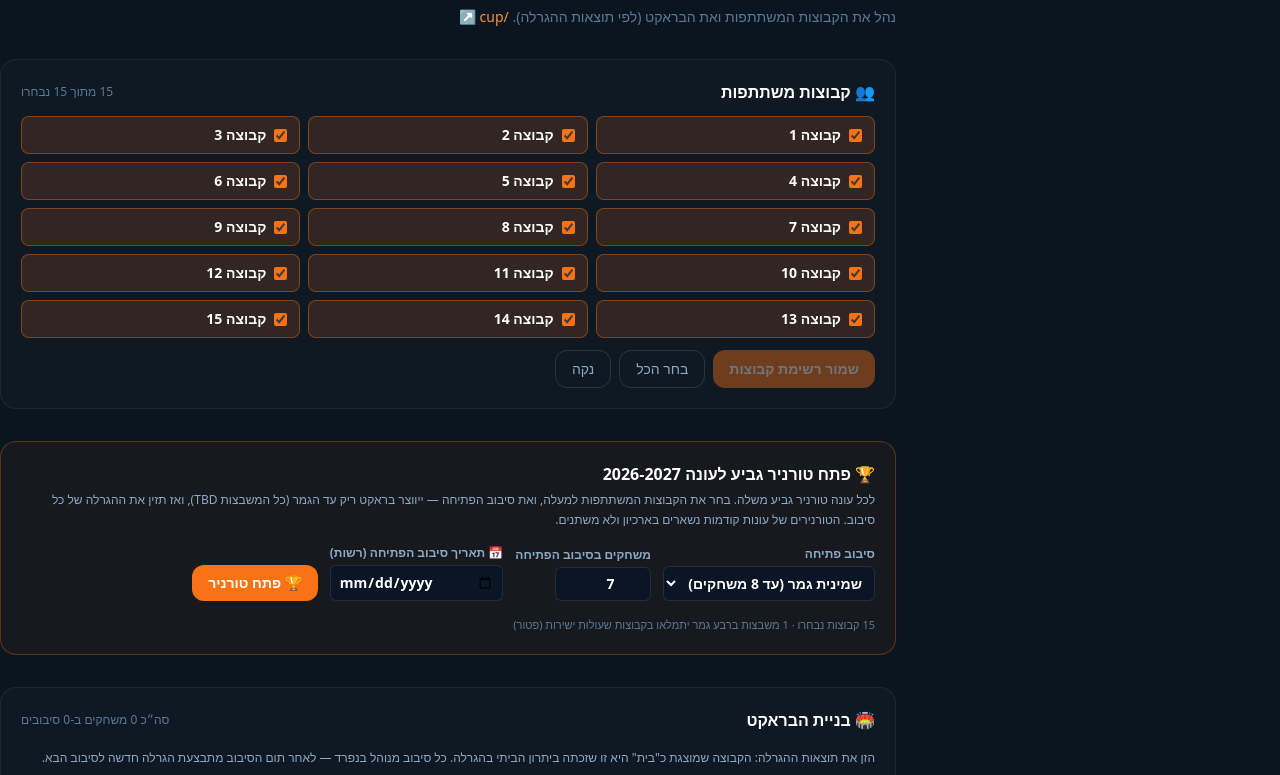
CupTab — start a season tournament › creates the bracket and shows it
This screenshot has width=1280, height=775.
Click the button "🏆 פתח טורניר".
click(255, 583)  # box [192,565,318,601]
(page scrolled)
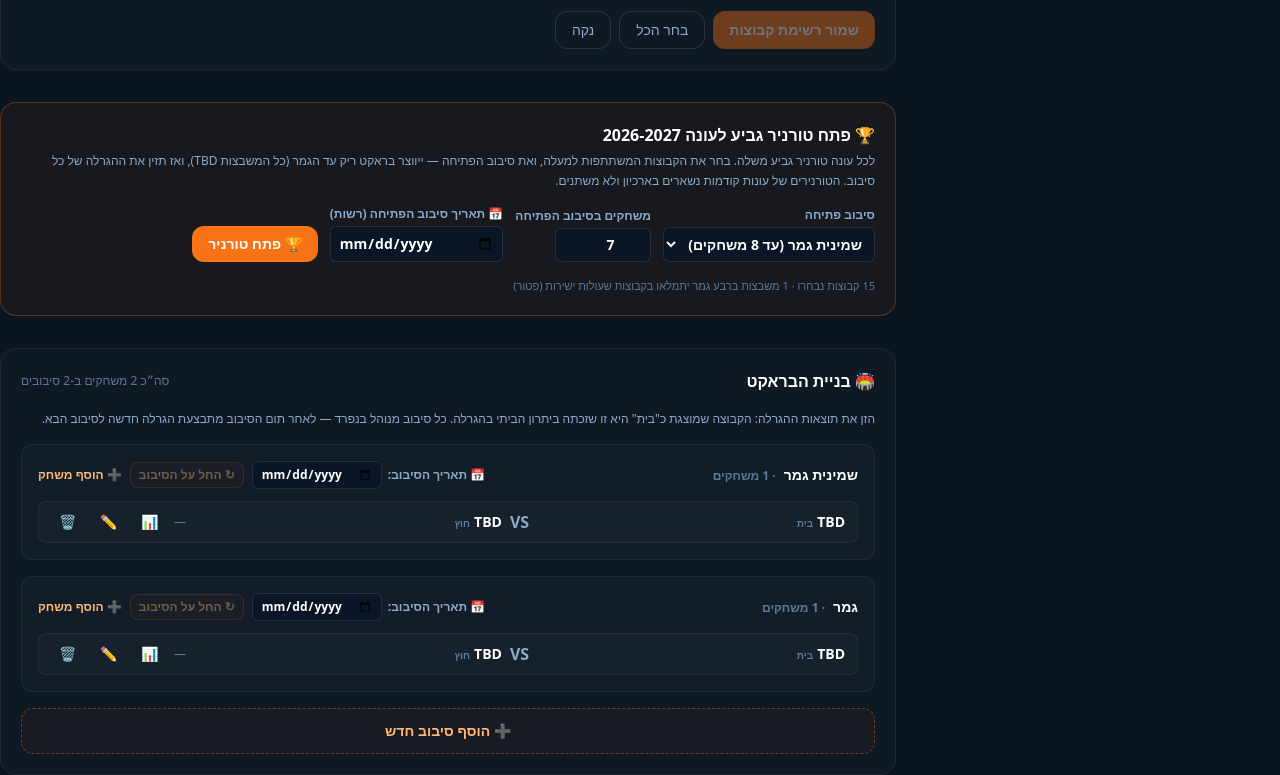
Expected: the text "סה״כ 2 משחקים ב-2 סיבובים" is shown, [21,372,169,388]
